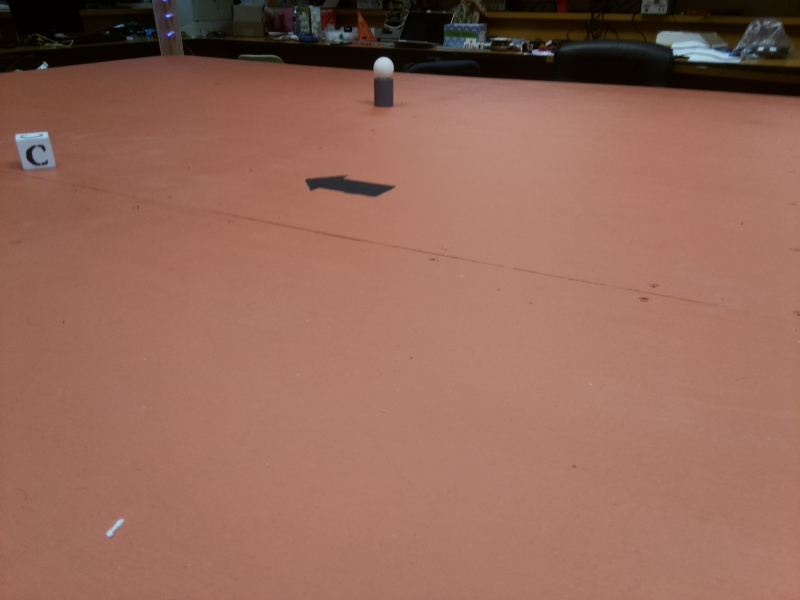blockC: (16, 132, 57, 173)
obstacle: (372, 59, 396, 110)
start: (305, 173, 399, 202)
